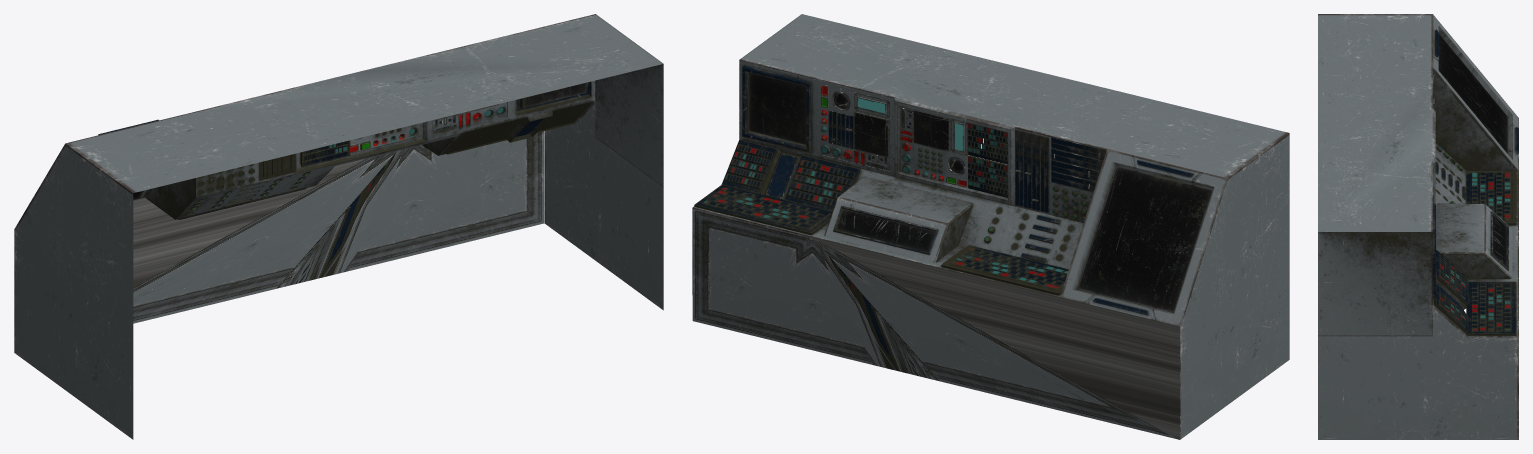
The model's file is mesa1.obj.
3 views of the same model, side by side, from view 1: azimuth 30°, elevation 25°; view 2: azimuth 150°, elevation 25°; view 3: azimuth 270°, elevation 25° (orthographic). The views are drawn at different scales.
Visible parts, largest first — view 1: Controlos; view 2: Controlos; view 3: Controlos.
Boxes of the visible parts, x1,y1,x2,y2 form: Controlos: (14, 14, 663, 439); Controlos: (692, 14, 1289, 439); Controlos: (1318, 14, 1518, 439).
Size of the model in its own units: 450 by 200 by 175.
